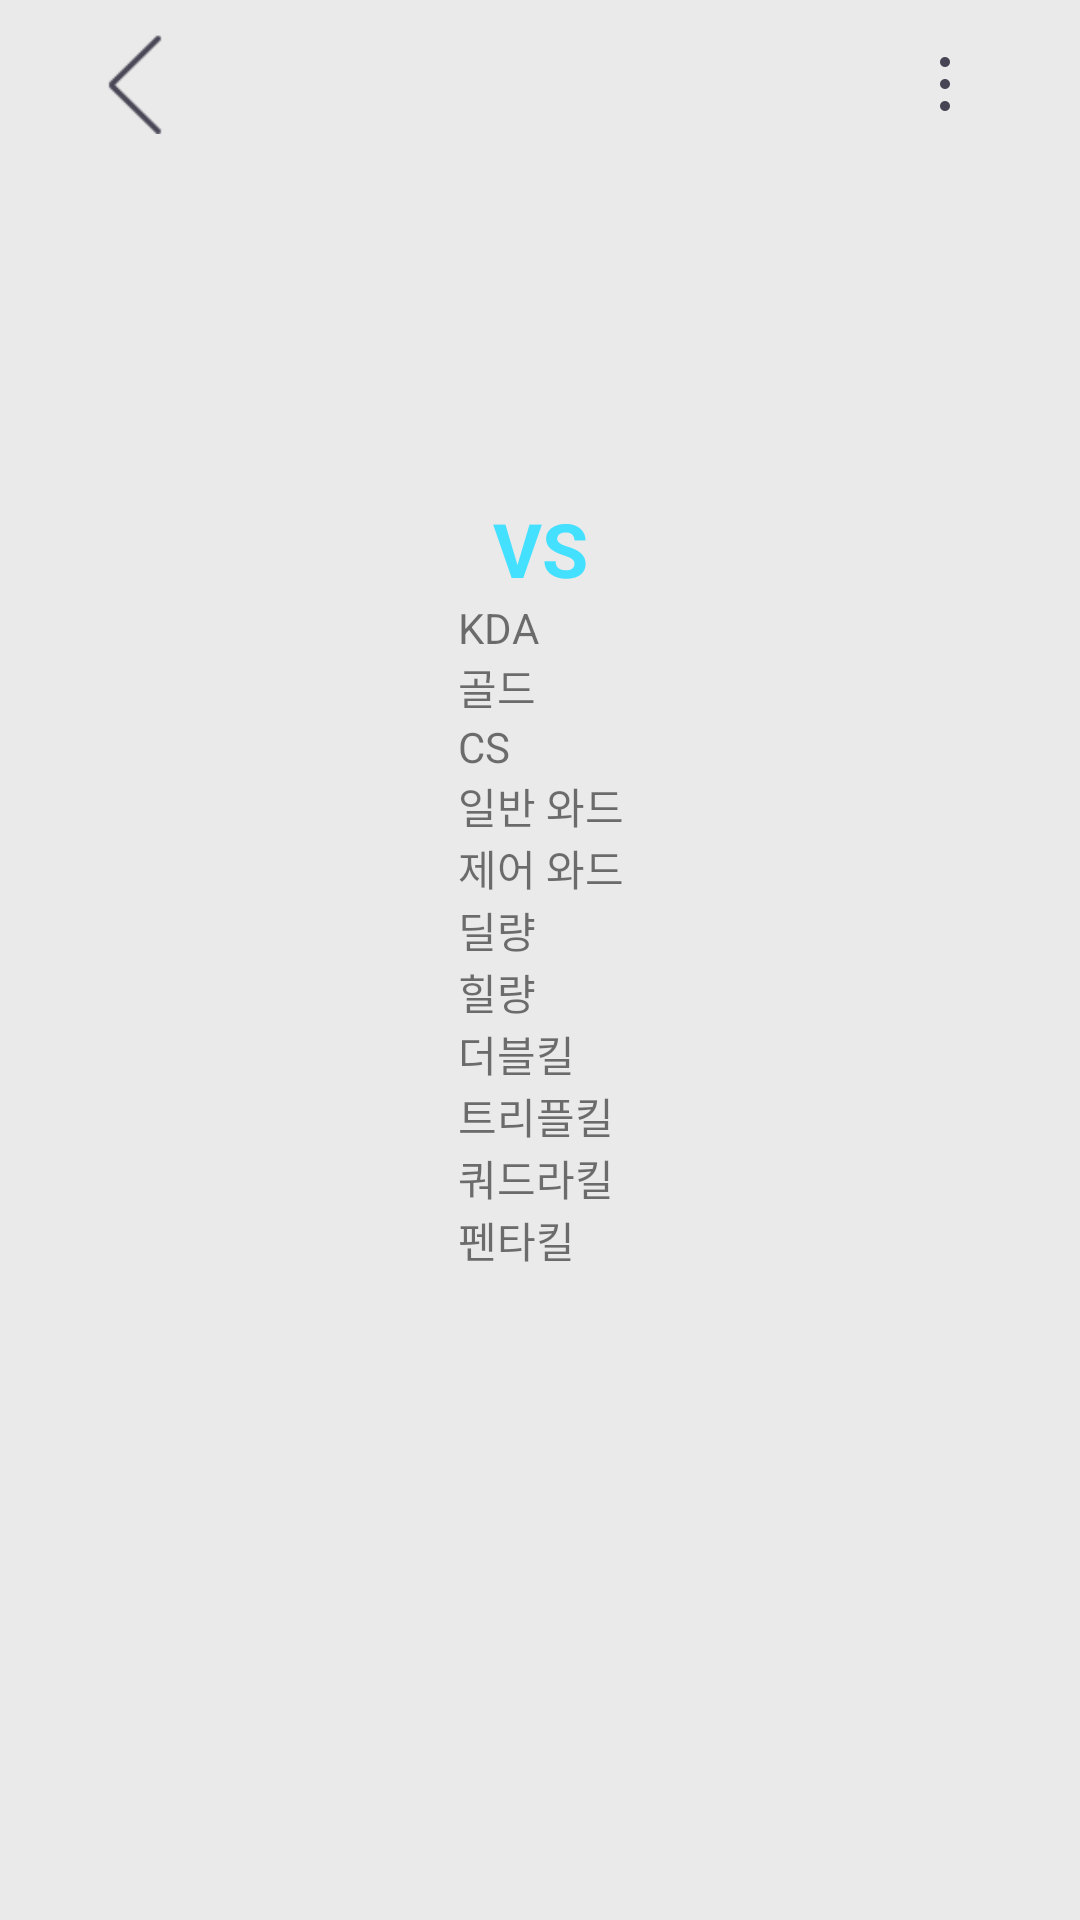

Screen size 1080px×1920px. Icon name, then its center in pixels as [x,y]:
back: [135,84]
menu: [945,84]
